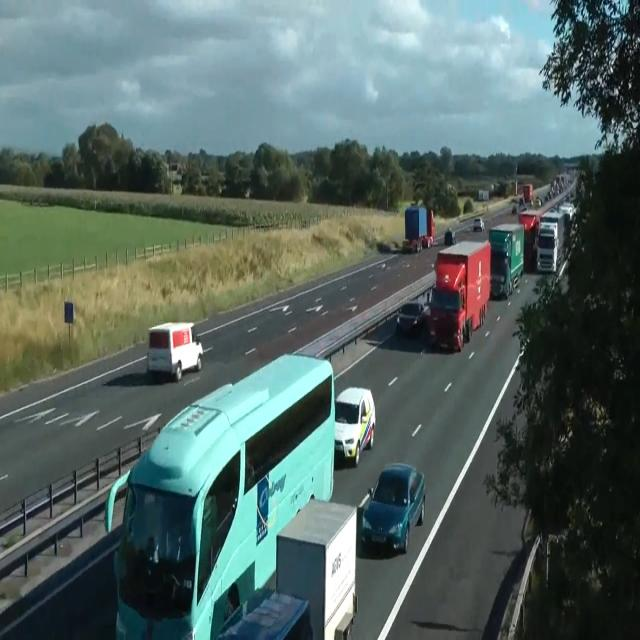bus: (360, 462, 426, 554), (397, 302, 427, 334), (444, 228, 456, 245), (472, 217, 484, 232), (535, 196, 542, 206)
car: (104, 351, 336, 638)
jeep: (145, 320, 203, 382), (334, 385, 376, 467), (427, 284, 465, 351)
minibus: (218, 498, 358, 639), (429, 239, 491, 352), (488, 222, 524, 299), (535, 210, 569, 273), (405, 206, 435, 252), (519, 212, 539, 271), (558, 201, 576, 220), (522, 183, 533, 204), (478, 189, 488, 201)
